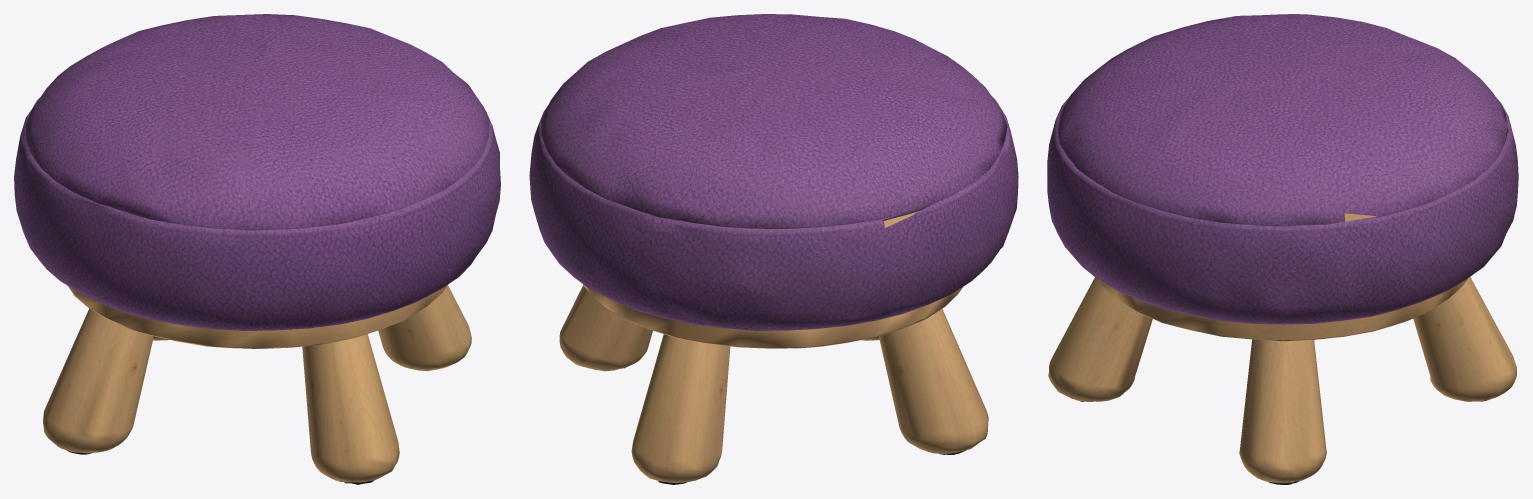
File: stool.glb
3 views of the same model, side by side, from view 1: azimuth 30°, elevation 25°; view 2: azimuth 150°, elevation 25°; view 3: azimuth 270°, elevation 25° (orthographic). The views are drawn at different scales.
Parts seen in each view (by area): view 1: Mesh_0; view 2: Mesh_0; view 3: Mesh_0.
Boxes of the visible parts, bbox=[...] form: Mesh_0: bbox=[14, 14, 500, 484]; Mesh_0: bbox=[529, 14, 1018, 484]; Mesh_0: bbox=[1047, 14, 1518, 484].
Bounding box in the file's own units: 0.3879 × 0.3 × 0.3879.
1 material, 1 textured.
